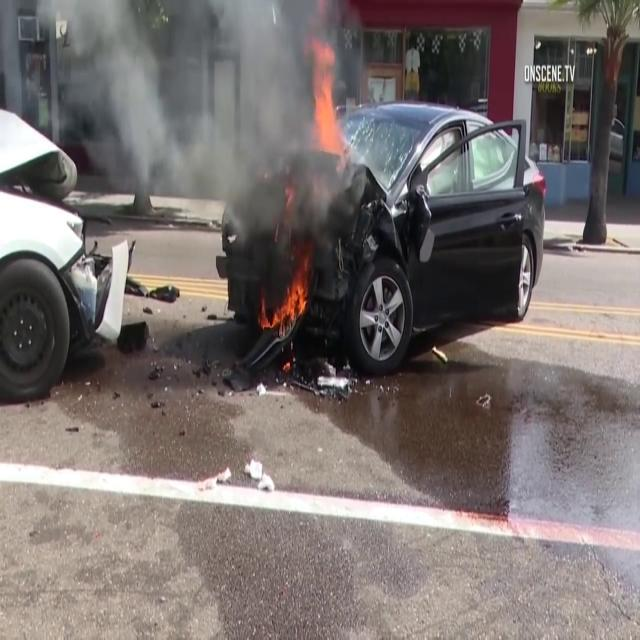Fire: (305, 57, 347, 160), (264, 268, 309, 338)
Smoke: (52, 0, 362, 247)
